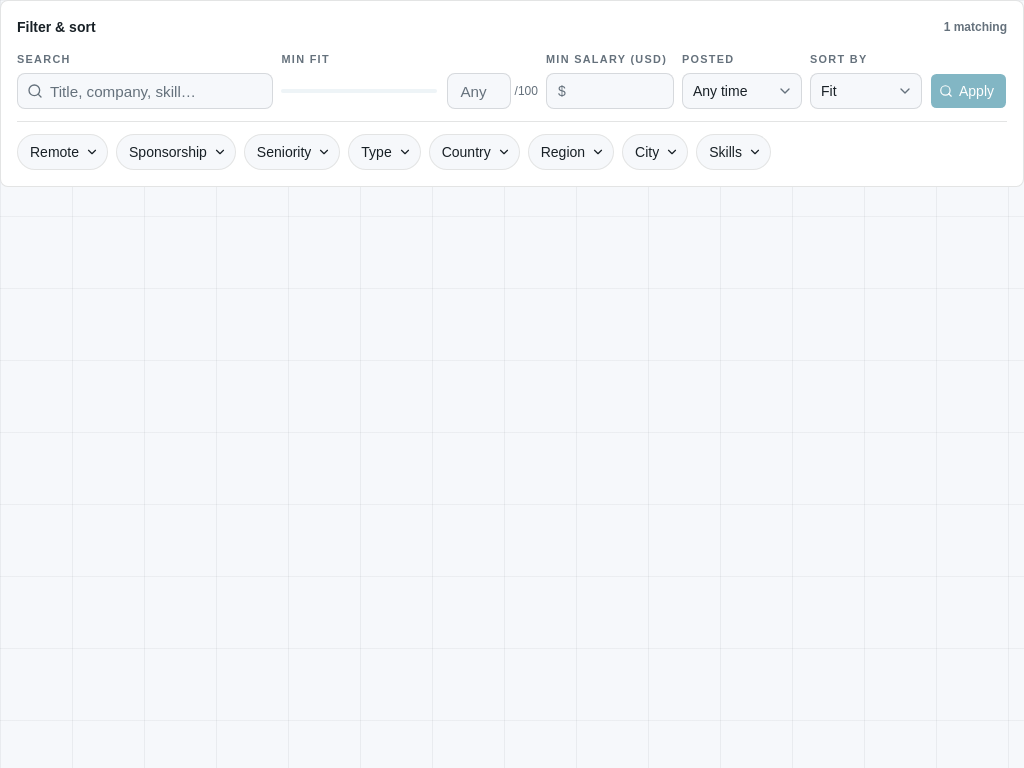
Test: FilterDesk › marks a negative salary invalid and prevents applying the draft
In the number field labelled "Min salary (USD)": (610, 91) [546,73,674,109], type "-1"
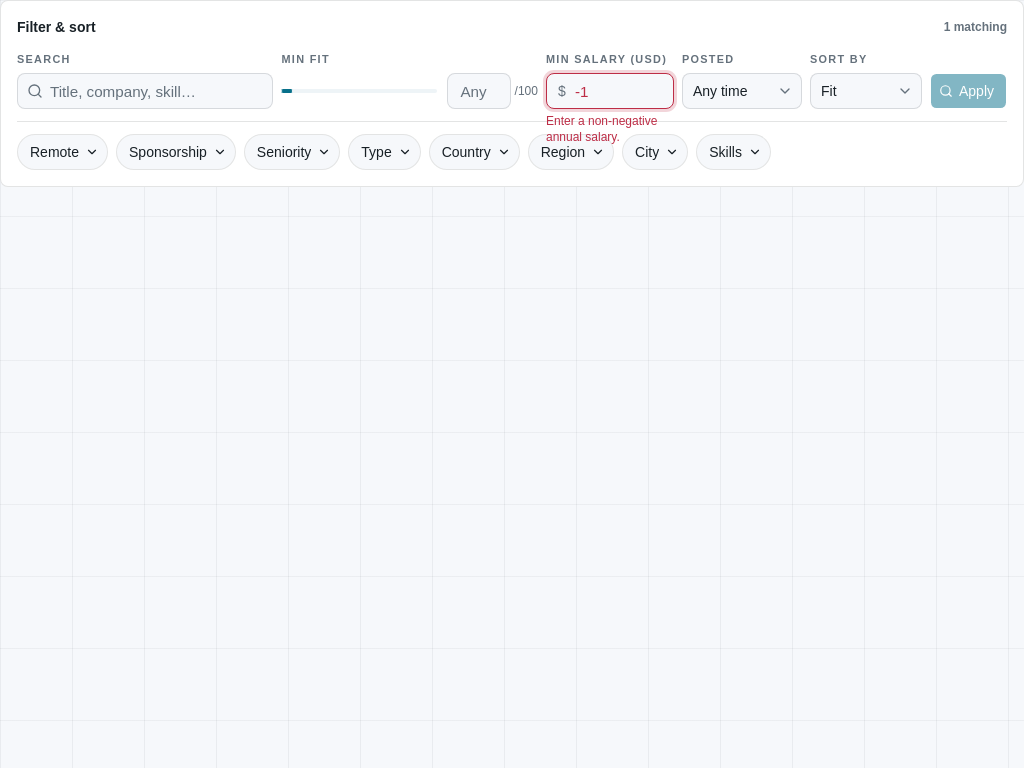
expect the button "Apply" is disabled: met, box [930,73,1007,109]
expect the text "Enter a non-negative annual salary." is shown: met, box [546,113,674,145]
